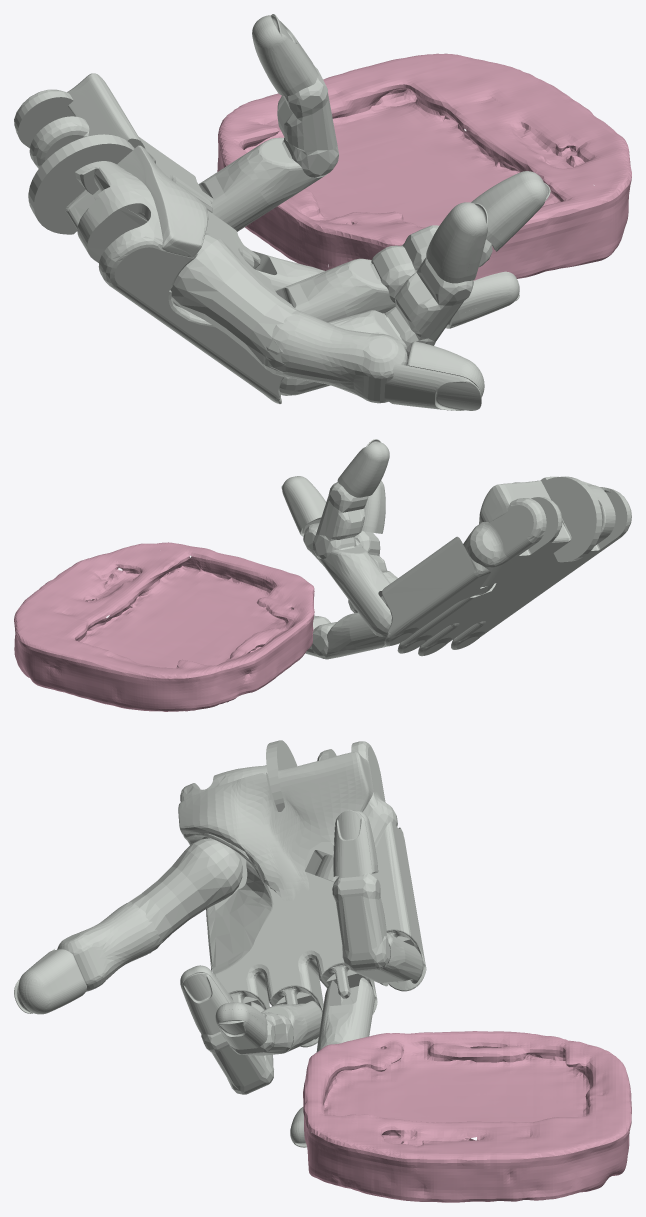
The picture shows the model from 3 angles, top to bottom: view 1: azimuth 30°, elevation 25°; view 2: azimuth 150°, elevation 25°; view 3: azimuth 270°, elevation 25°; orthographic projection. The views are drawn at different scales.
Visible parts, largest first — view 1: hand, world; view 2: world, hand; view 3: hand, world.
Boxes of the visible parts, x1=… form: hand: x1=14, y1=14, x2=550, y2=410; world: x1=217, y1=53, x2=631, y2=280; world: x1=14, y1=542, x2=314, y2=711; hand: x1=281, y1=439, x2=631, y2=659; hand: x1=14, y1=740, x2=426, y2=1147; world: x1=303, y1=1031, x2=631, y2=1202.
Size of the model in its own units: 0.2504 by 0.1203 by 0.247.
